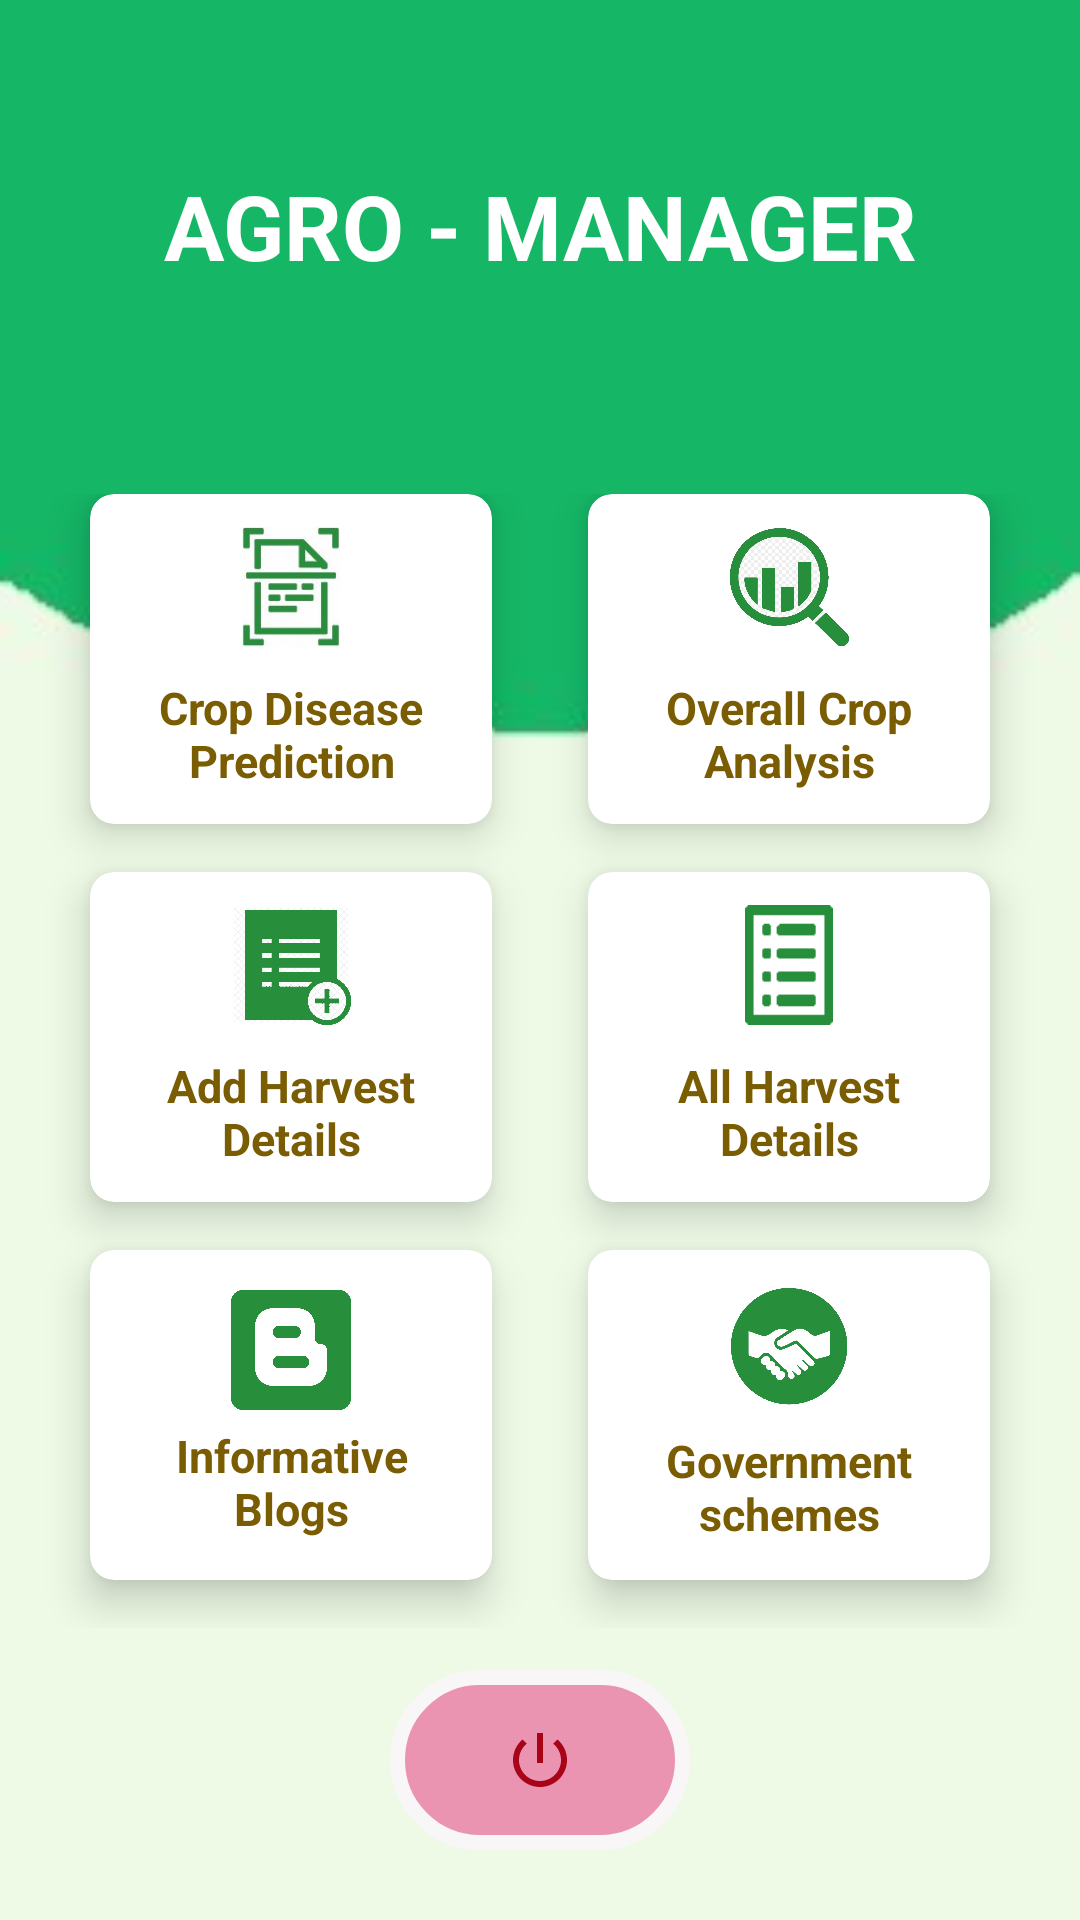

Point at icon controls on the screen. Image size 1080 × 1920, points as [x,y].
addlist: [298,967]
scan: [291,587]
